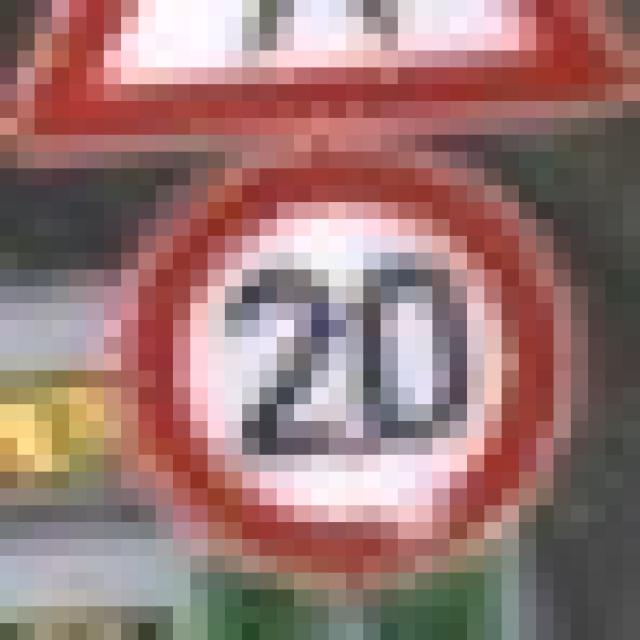Speed Limit -20-: (104, 101, 553, 556)
